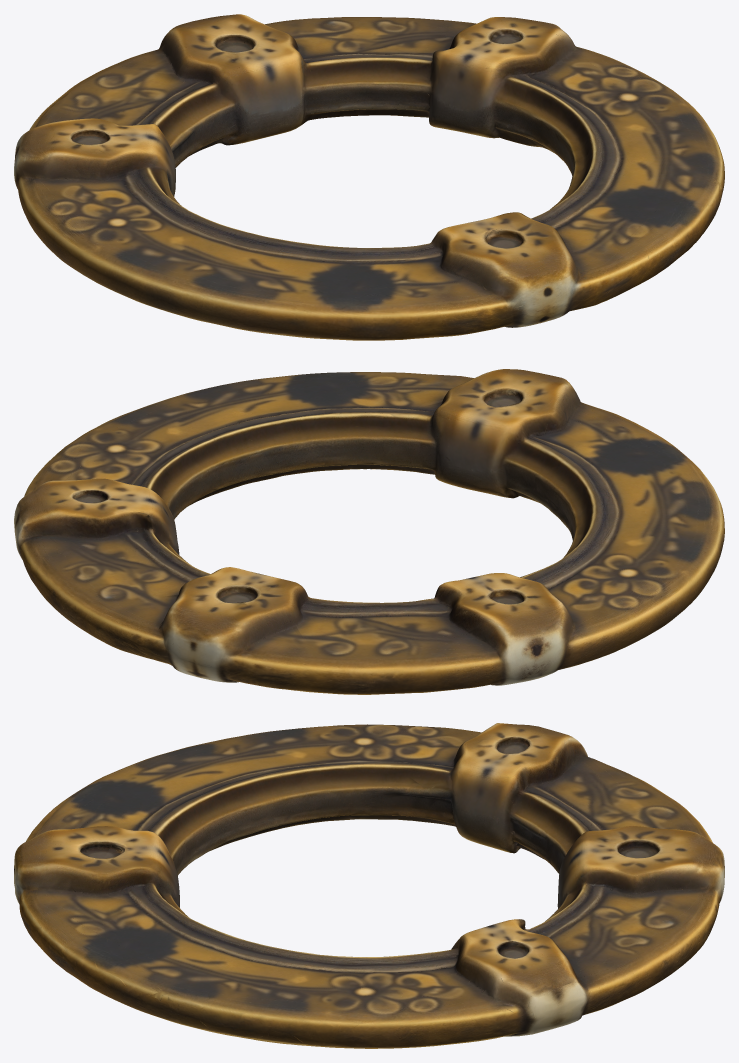
File: Meshy_AI_Vintage_Floral_Brass__0822074327_texture.fbx
3 views of the same model, one above another, from view 1: azimuth 30°, elevation 25°; view 2: azimuth 150°, elevation 25°; view 3: azimuth 270°, elevation 25° (orthographic).
Visible parts, largest first — view 1: output_unwrapped; view 2: output_unwrapped; view 3: output_unwrapped.
Part boxes in pixels (left/top/right/bottom): output_unwrapped: left=14, top=14, right=724, bottom=340; output_unwrapped: left=14, top=369, right=724, bottom=694; output_unwrapped: left=14, top=723, right=724, bottom=1048.
Bounding box in the file's own units: 200 × 22.79 × 200.
1 material, 1 textured.
